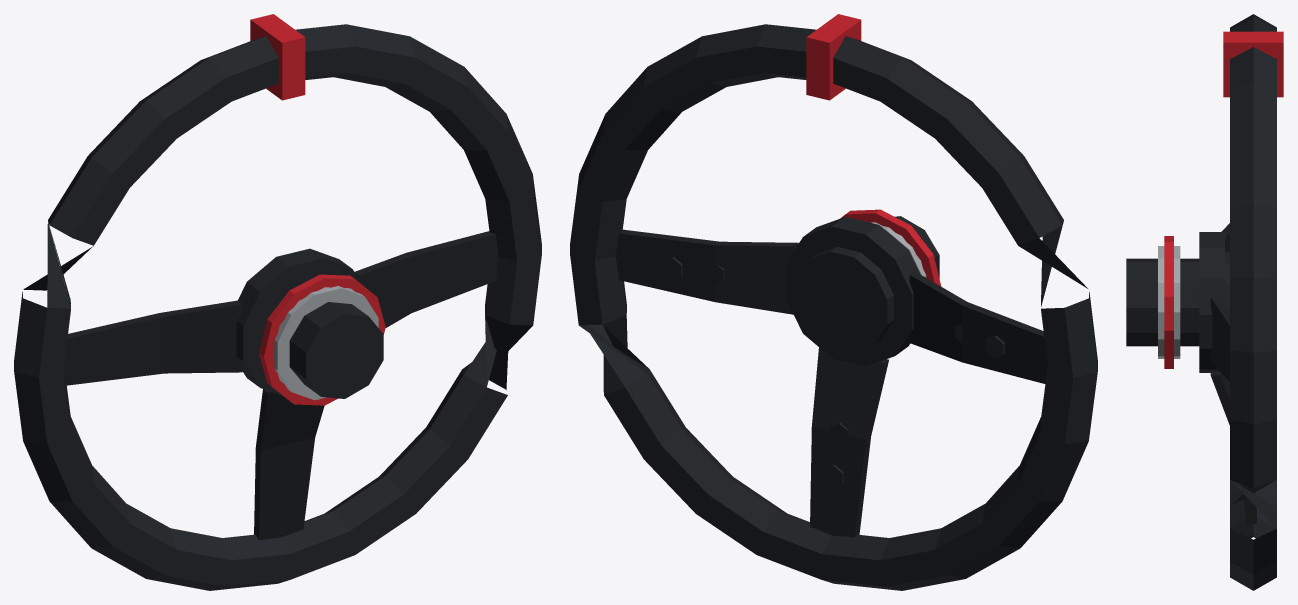
The model's file is brute_500.glb.
The picture shows the model from 3 angles, left to right: view 1: azimuth 30°, elevation 25°; view 2: azimuth 150°, elevation 25°; view 3: azimuth 270°, elevation 25°; orthographic projection. The views are drawn at different scales.
Visible parts, largest first — view 1: model; view 2: model; view 3: model.
Boxes of the visible parts, <box> form: model: <box>14,14,541,590</box>; model: <box>570,14,1097,590</box>; model: <box>1126,14,1283,590</box>.
Size of the model in its own units: 0.364 by 0.366 by 0.099.
Materials: 3 (1 with a texture image).
